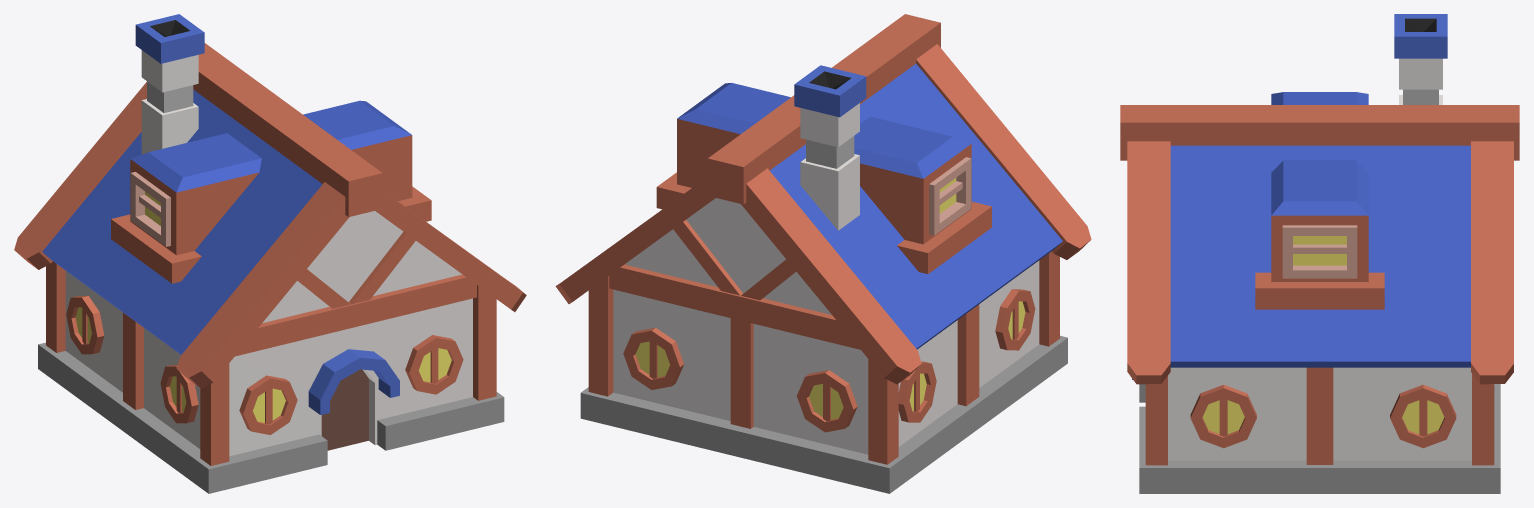
File: building_019.fbx
3 renders of one model, left to right at view 1: azimuth 30°, elevation 25°; view 2: azimuth 150°, elevation 25°; view 3: azimuth 270°, elevation 25°, orthographic. The views are drawn at different scales.
Parts seen in each view (by area): view 1: building.019; view 2: building.019; view 3: building.019.
Boxes of the visible parts, x1,y1,x2,y2 form: building.019: (14,14,526,493); building.019: (555,14,1091,493); building.019: (1120,14,1519,493).
Bounding box in the file's own units: 1386 × 1347 × 1336.
1 material, 1 textured.
